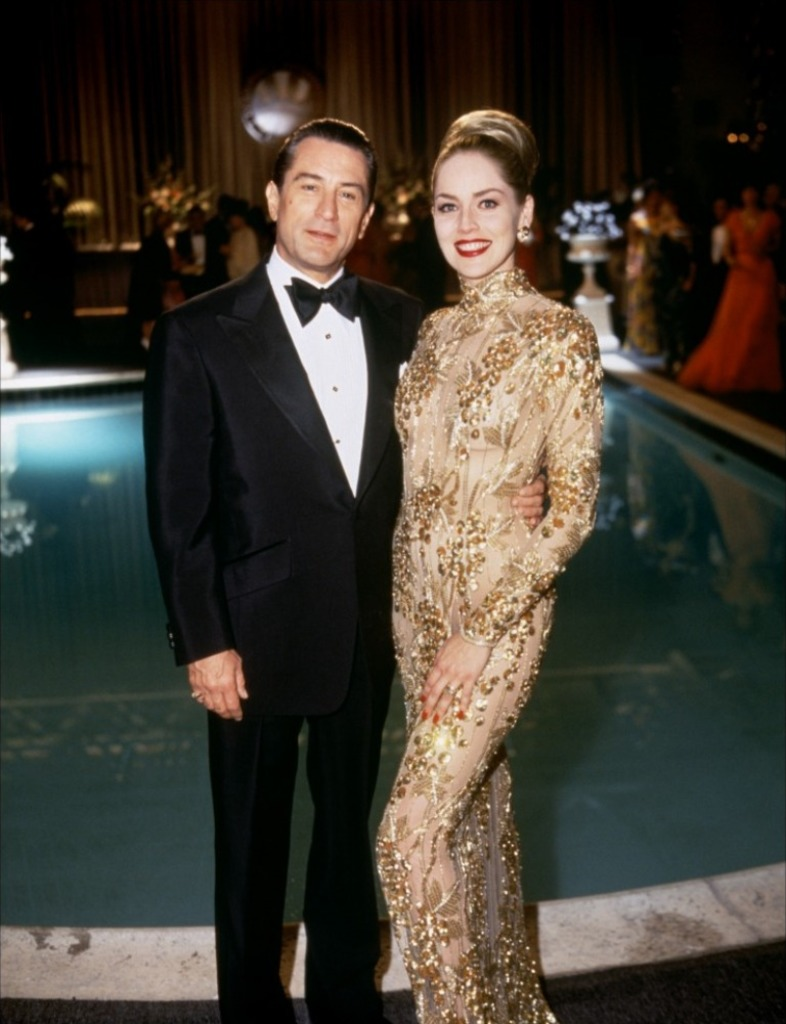Human_hand: (416, 629, 495, 726), (187, 649, 249, 723), (513, 477, 547, 528)
